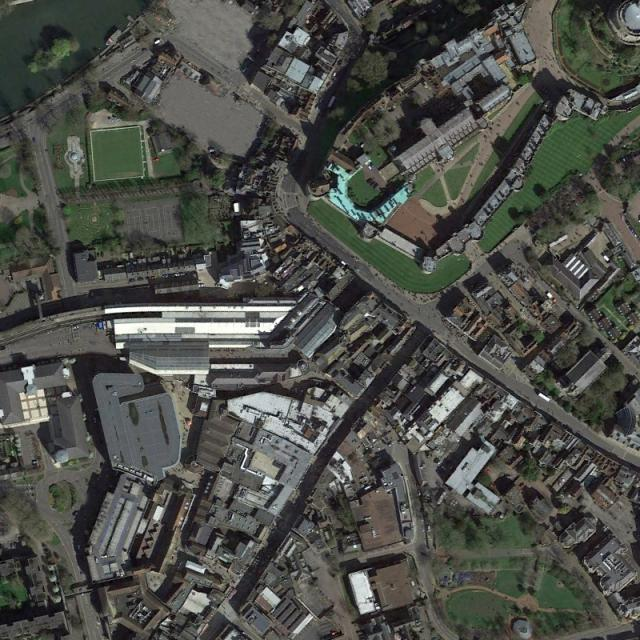vehicle: (538, 392, 550, 402), (327, 96, 336, 109), (546, 292, 557, 302), (154, 39, 162, 44)
